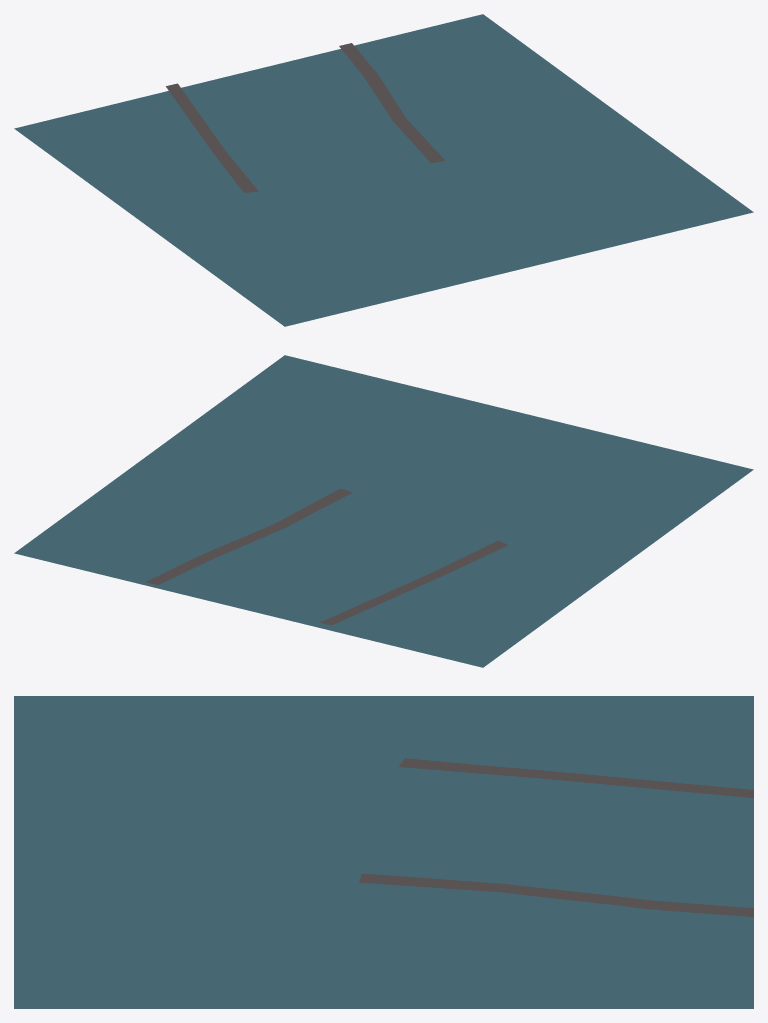
3 renders of one model, top to bottom at view 1: azimuth 30°, elevation 25°; view 2: azimuth 150°, elevation 25°; view 3: azimuth 270°, elevation 25°, orthographic. The views are drawn at different scales.
Parts seen in each view (by area): view 1: c_p05_m03; view 2: c_p05_m03; view 3: c_p05_m03.
Part boxes in pixels (x1,y1,x2,y2): c_p05_m03: (14,14,753,326); c_p05_m03: (14,355,753,667); c_p05_m03: (14,696,753,1008).
Bounding box in the file's own units: 128 × 1.39 × 128.
